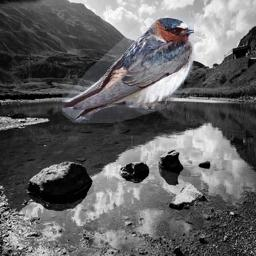Swallow: (62, 17, 194, 123)
